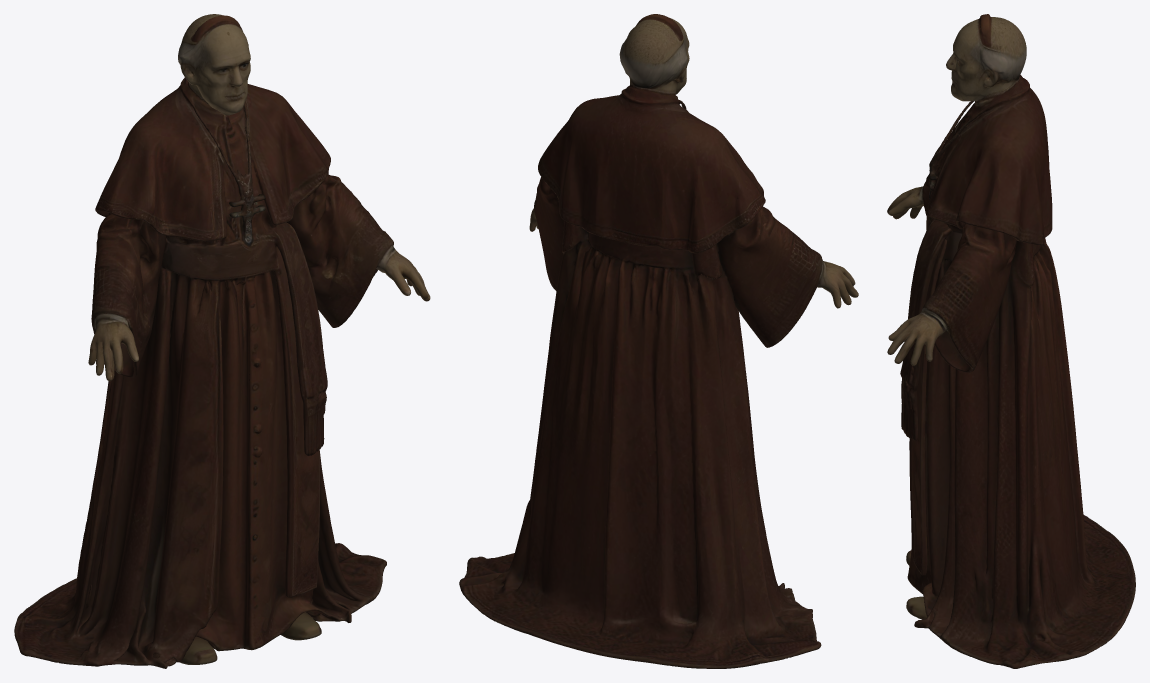
File: woman_hayme.obj
The picture shows the model from 3 angles, left to right: view 1: azimuth 30°, elevation 25°; view 2: azimuth 150°, elevation 25°; view 3: azimuth 270°, elevation 25°; orthographic projection. The views are drawn at different scales.
Parts seen in each view (by area): view 1: tripo_node_76f78103-529f-48fd-bb50-4249daa7dc1e; view 2: tripo_node_76f78103-529f-48fd-bb50-4249daa7dc1e; view 3: tripo_node_76f78103-529f-48fd-bb50-4249daa7dc1e.
Boxes of the visible parts, left/top/right/bottom form: tripo_node_76f78103-529f-48fd-bb50-4249daa7dc1e: left=14, top=14, right=430, bottom=668; tripo_node_76f78103-529f-48fd-bb50-4249daa7dc1e: left=459, top=14, right=858, bottom=668; tripo_node_76f78103-529f-48fd-bb50-4249daa7dc1e: left=887, top=14, right=1135, bottom=668.
Size of the model in its own units: 0.6267 by 1 by 0.392.
1 material, 1 textured.
